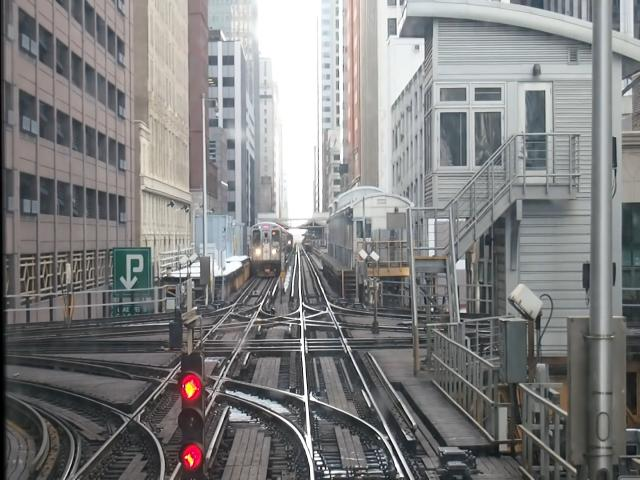signal light: (175, 348, 210, 480)
